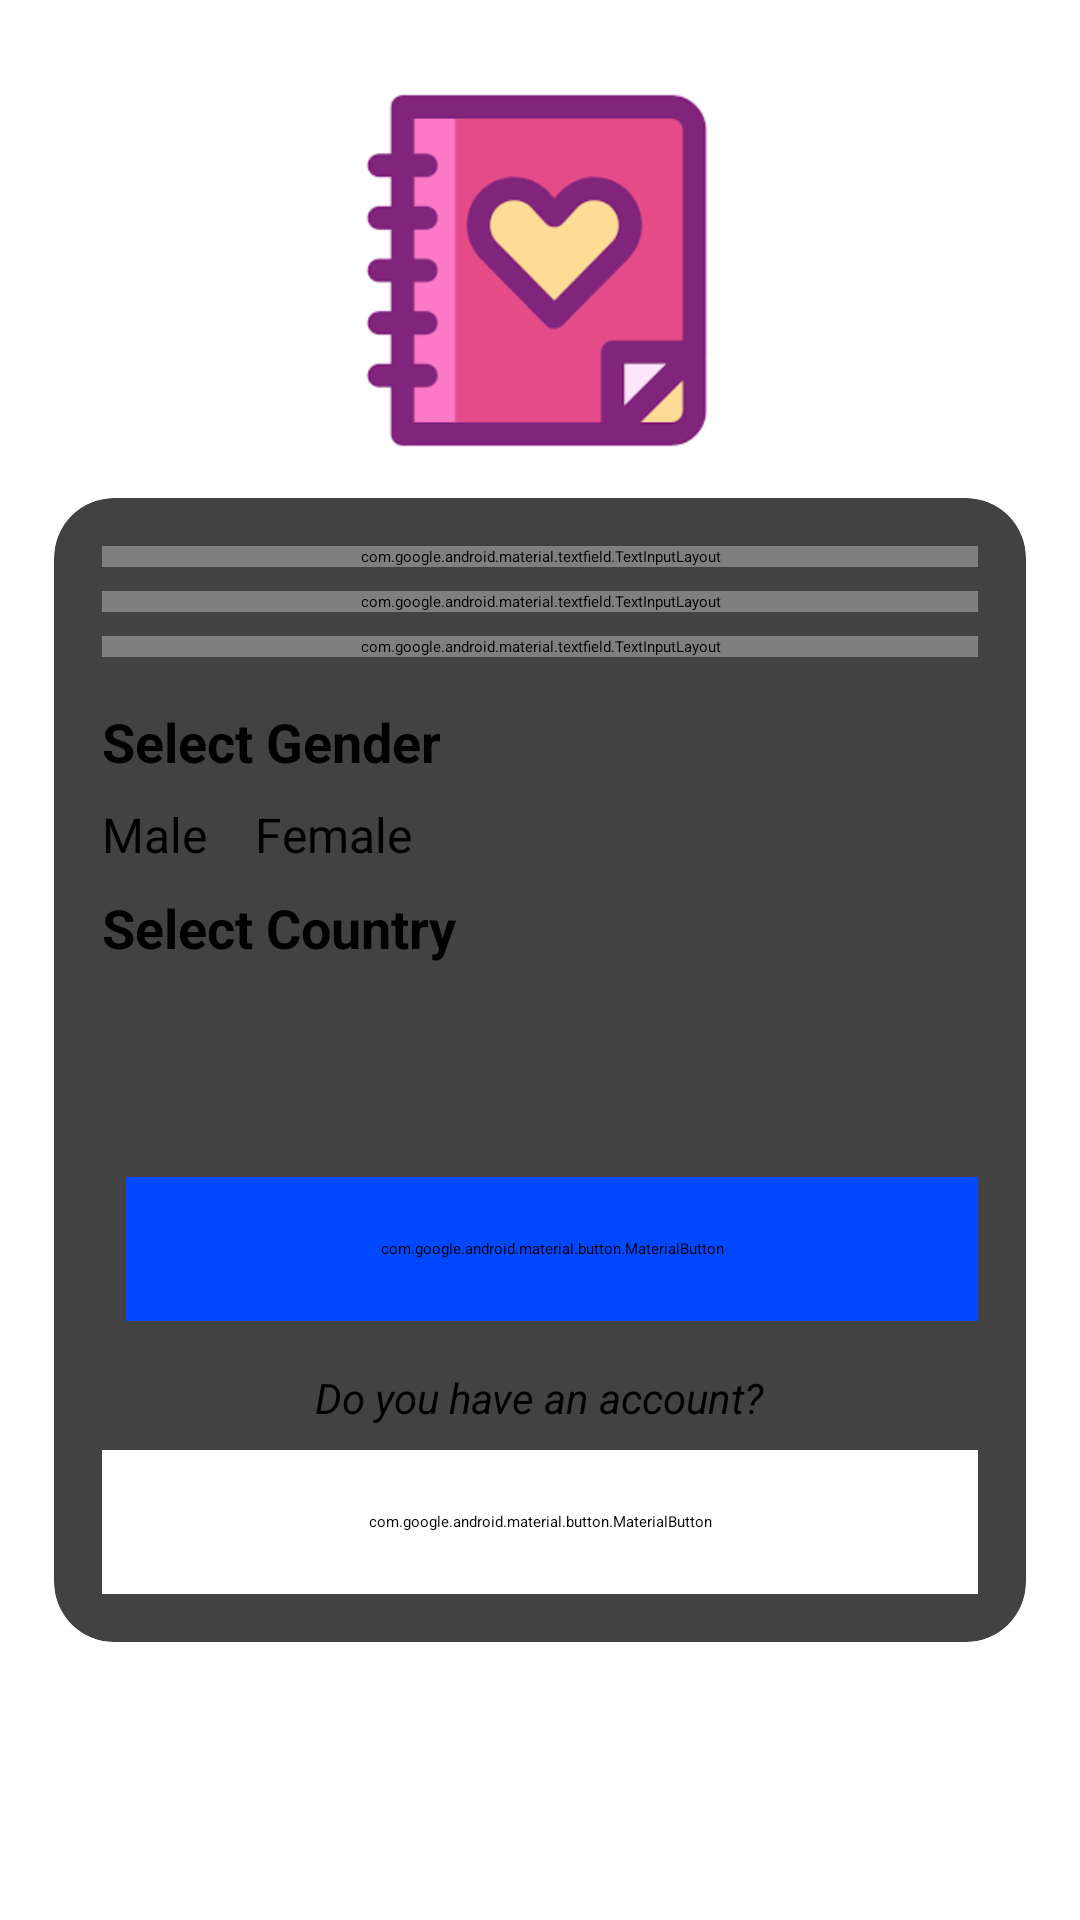

Where icons sit on this 1080×1920 app screen, as (x1, y1, x2, y2):
book: (366, 94, 707, 447)
